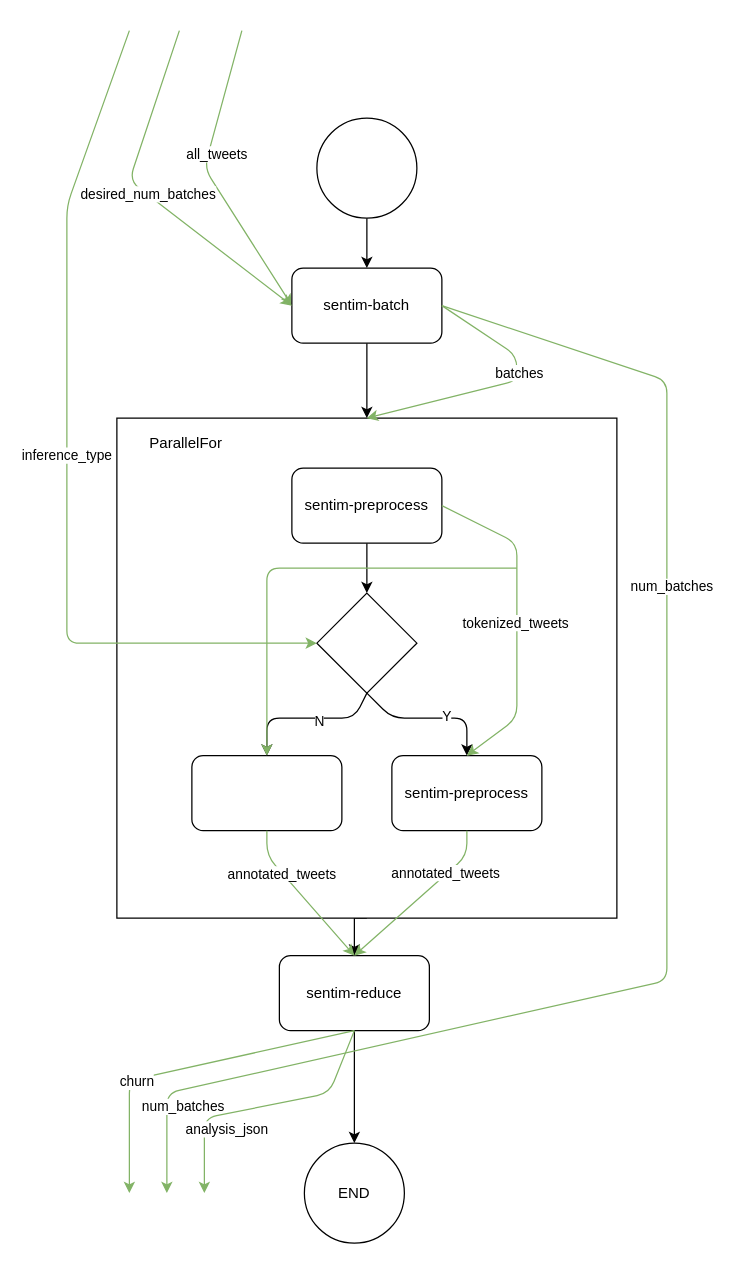
This 734x1265 diagram has some shape labels left out. The shapes that lost their labels are listed below. From the top down, each one's centre as x and y in pixels, then its label:
the point at 366,167: START
the point at 366,642: IfThenElse
the point at 266,792: sentim-preprocess-textblob
